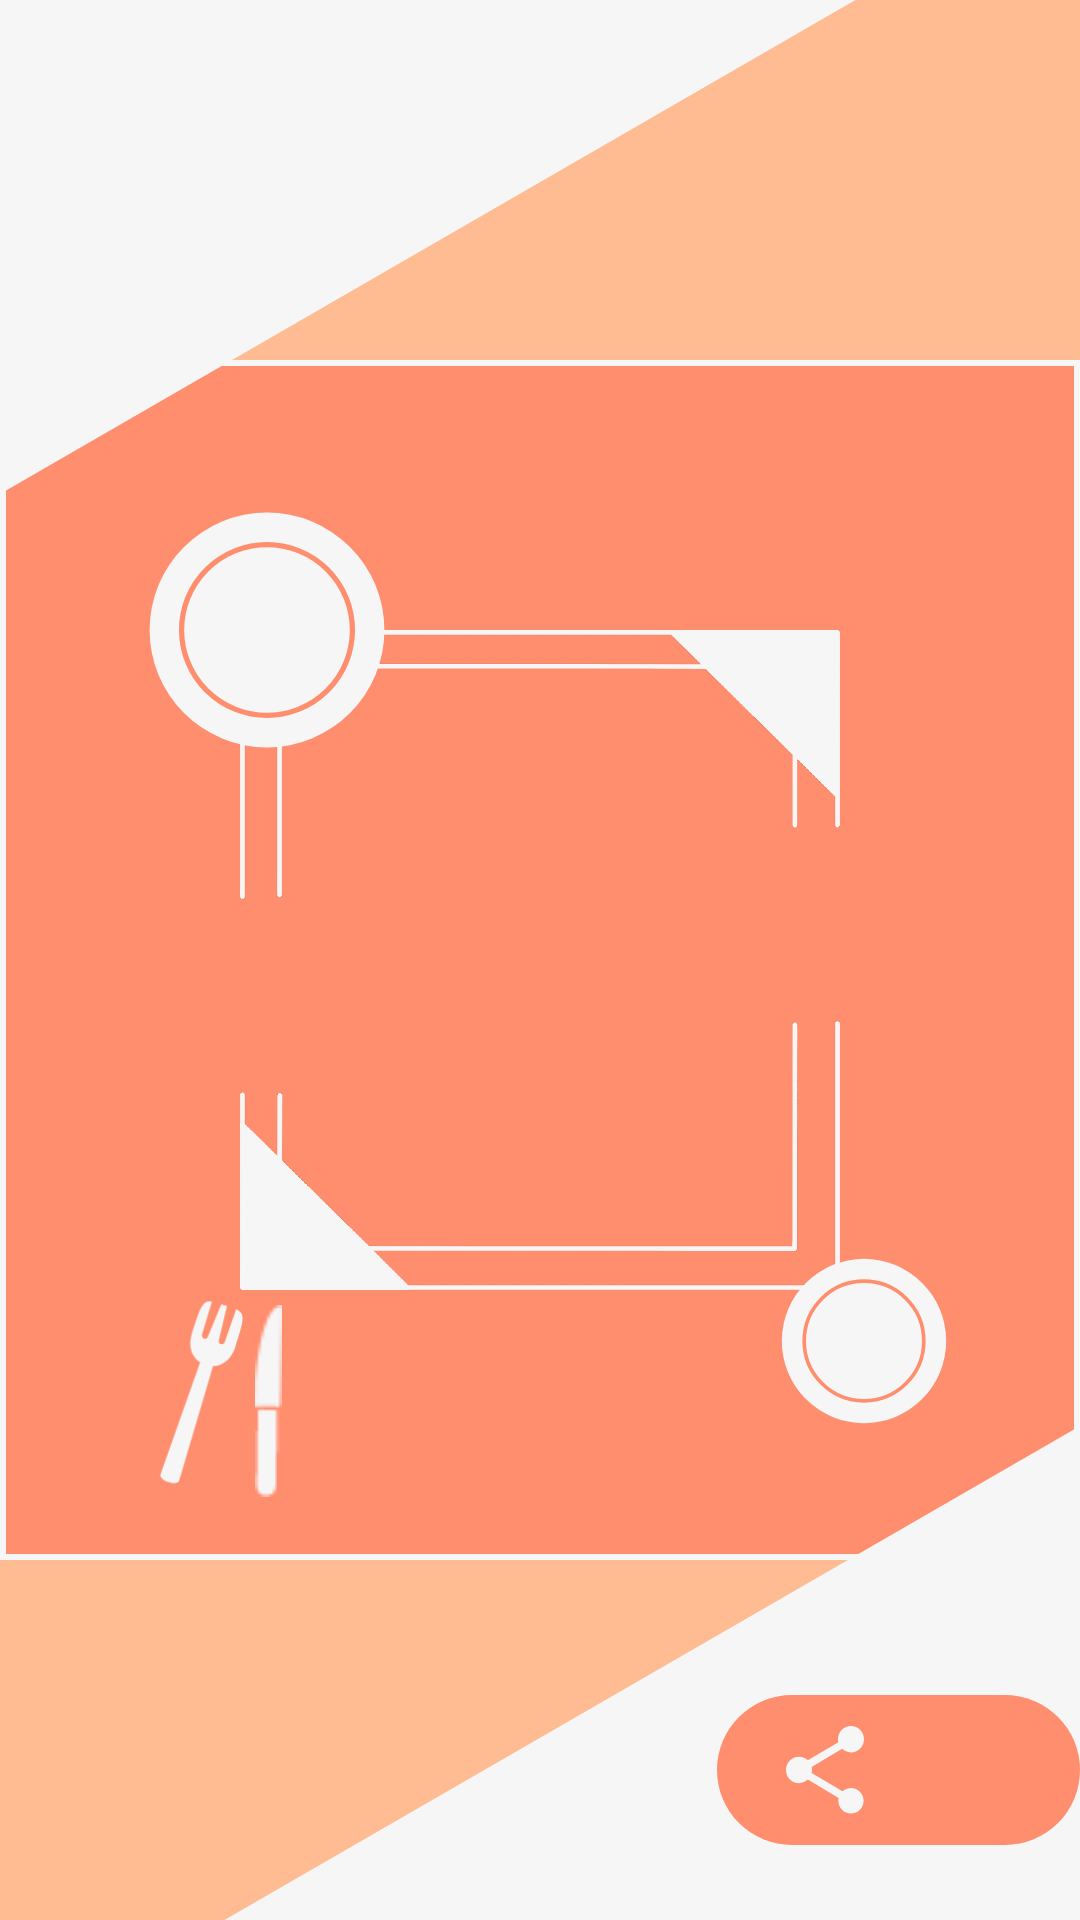

Icons on this 1080×1920 Android screen, each with the point to tap as (x,y):
share: (825,1770)
